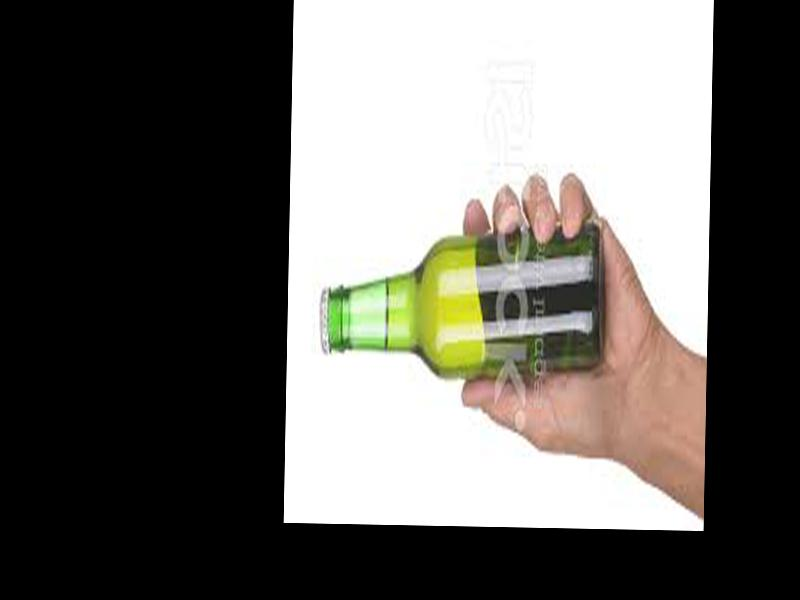Beer: (318, 227, 604, 385)
